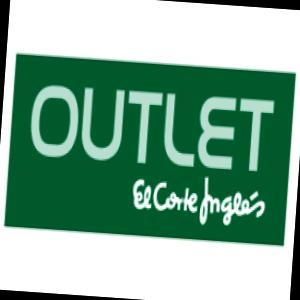corte_ingles: (170, 86, 300, 258)
